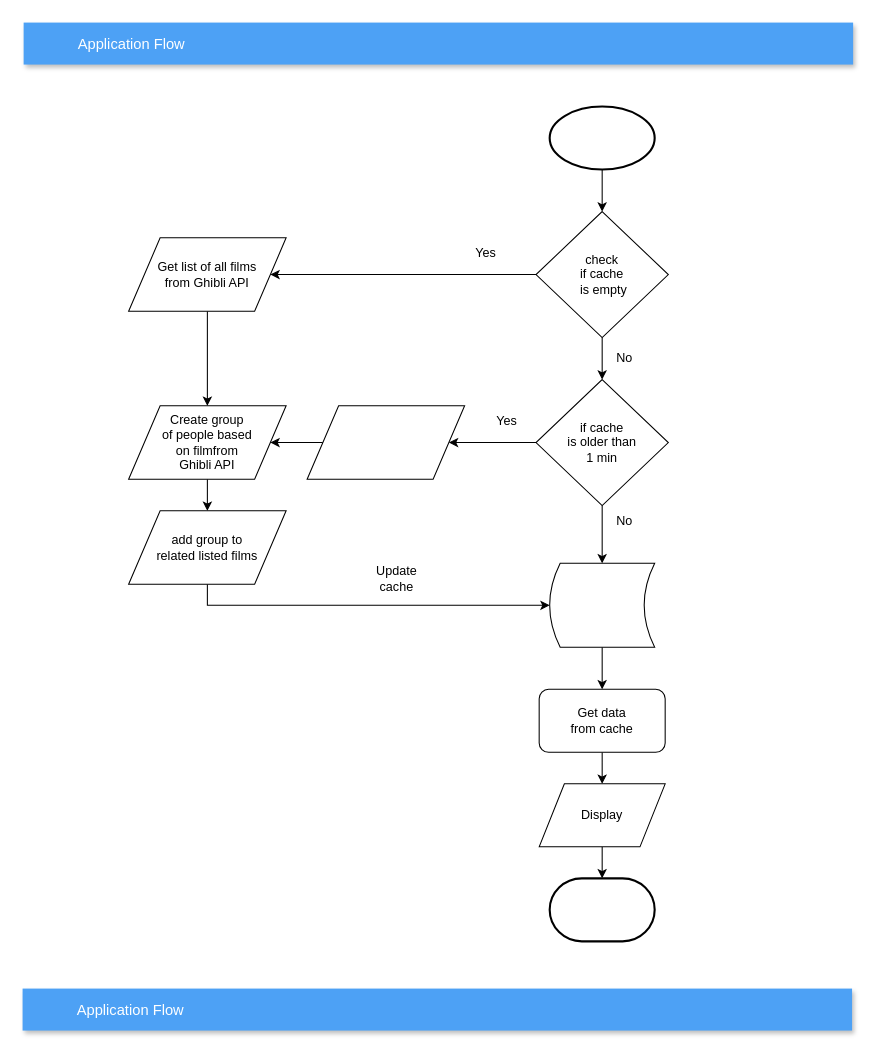
This 877x1055 diagram has some shape labels left out. The centre of each missing label's shape, as x and y in pixels:
"Cache" goes at [602,604].
"End" goes at [601,909].
"Get the new release films from Ghibli API" goes at [385,442].
"Start" goes at [601,137].
